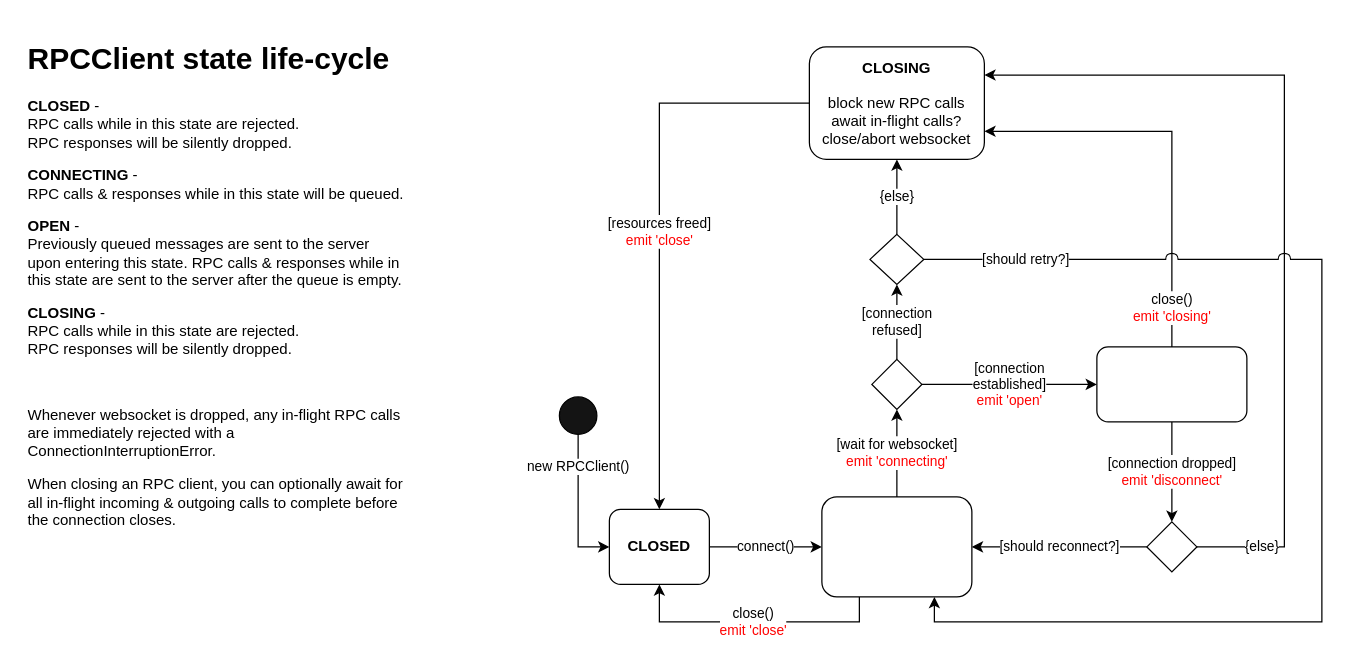
Image size: 1354x659. Some labels were removed from this diagram. The box of each missing label's shape, as (x1, y1, x2, y2) in pixels:
CONNECTING create websocket queue RPC calls: (821, 496, 972, 597)
OPEN flush RPC call queue: (1096, 346, 1247, 422)
